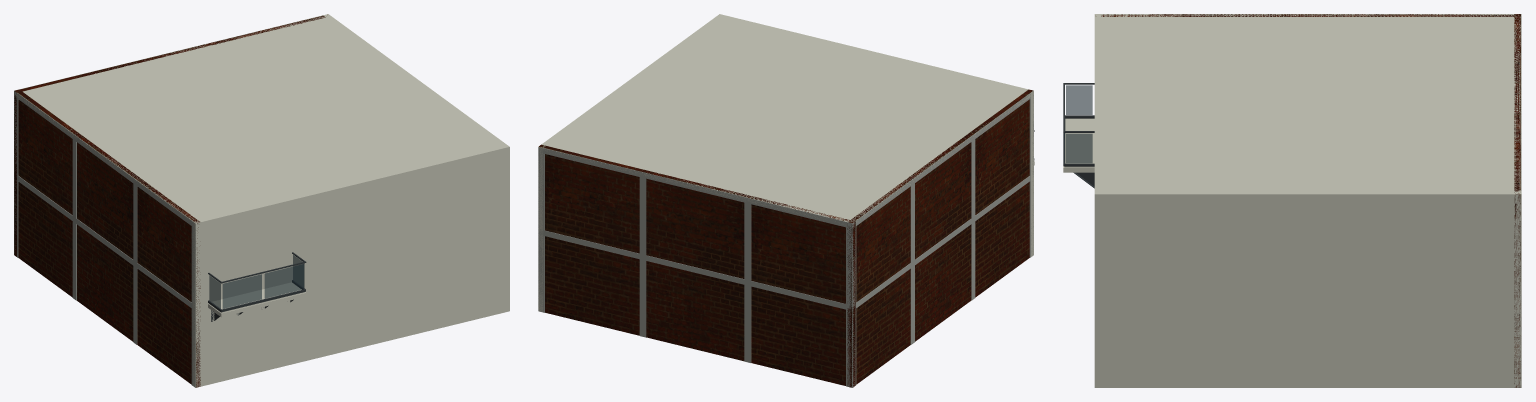
File: building.glb
3 views of the same model, side by side, from view 1: azimuth 30°, elevation 25°; view 2: azimuth 150°, elevation 25°; view 3: azimuth 270°, elevation 25° (orthographic). The views are drawn at different scales.
Parts seen in each view (by area): view 1: roof/house:0/roof_slab#0001, house:0/edge0/z0/house:0/edge0/z0/wall_0_0, house:0/edge3/z0/house:0/edge3/z0/wall_0_0, house:0/edge2/z0/house:0/edge2/z0/wall_0_0, house:0/edge1/z0/house:0/edge1/z0/wall_0_0, house:0/edge3/z0/house:0/edge3/z0/beam_0_0, house:0/edge3/z0/house:0/edge3/z0/beam_1_0, balcony/sample/balcony_glass#0002, balcony/sample/balcony_glass#0003, balcony/sample/balcony_platform#0001, balcony/sample/balcony_fascia#0001; view 2: roof/house:0/roof_slab#0001, house:0/edge2/z0/house:0/edge2/z0/wall_0_0, house:0/edge3/z0/house:0/edge3/z0/wall_0_0, house:0/edge2/z0/house:0/edge2/z0/beam_0_0, house:0/edge2/z0/house:0/edge2/z0/beam_1_0, house:0/edge1/z0/house:0/edge1/z0/wall_0_0, house:0/edge0/z0/house:0/edge0/z0/wall_0_0, house:0/edge3/z0/house:0/edge3/z0/beam_0_0, house:0/edge3/z0/house:0/edge3/z0/beam_1_0, house:0/edge2/z0/house:0/edge2/z0/column_2_1, house:0/edge2/z0/house:0/edge2/z0/column_2_0, house:0/edge2/z0/house:0/edge2/z0/column_3_0 (+5 smaller); view 3: house:0/edge1/z0/house:0/edge1/z0/wall_0_0, roof/house:0/roof_slab#0001, house:0/edge0/z0/house:0/edge0/z0/wall_0_0, house:0/edge2/z0/house:0/edge2/z0/wall_0_0, balcony/sample/balcony_platform#0001, house:0/edge3/z0/house:0/edge3/z0/wall_0_0, balcony/sample/balcony_glass#0004, balcony/sample/balcony_glass#0001.
Part boxes in pixels (<box>): roof/house:0/roof_slab#0001: <box>14,16,509,224</box>; house:0/edge0/z0/house:0/edge0/z0/wall_0_0: <box>192,144,509,387</box>; house:0/edge3/z0/house:0/edge3/z0/wall_0_0: <box>15,89,200,387</box>; house:0/edge2/z0/house:0/edge2/z0/wall_0_0: <box>14,14,327,256</box>; house:0/edge1/z0/house:0/edge1/z0/wall_0_0: <box>323,14,509,312</box>; house:0/edge3/z0/house:0/edge3/z0/beam_0_0: <box>14,175,195,310</box>; house:0/edge3/z0/house:0/edge3/z0/beam_1_0: <box>14,91,195,227</box>; balcony/sample/balcony_glass#0002: <box>222,274,261,308</box>; balcony/sample/balcony_glass#0003: <box>264,264,303,298</box>; balcony/sample/balcony_platform#0001: <box>209,282,305,312</box>; balcony/sample/balcony_fascia#0001: <box>208,292,306,317</box>; roof/house:0/roof_slab#0001: <box>538,14,1033,226</box>; house:0/edge2/z0/house:0/edge2/z0/wall_0_0: <box>539,144,855,387</box>; house:0/edge3/z0/house:0/edge3/z0/wall_0_0: <box>847,89,1033,387</box>; house:0/edge2/z0/house:0/edge2/z0/beam_0_0: <box>538,229,852,310</box>; house:0/edge2/z0/house:0/edge2/z0/beam_1_0: <box>538,147,852,228</box>; house:0/edge1/z0/house:0/edge1/z0/wall_0_0: <box>538,14,723,312</box>; house:0/edge0/z0/house:0/edge0/z0/wall_0_0: <box>718,14,1033,256</box>; house:0/edge3/z0/house:0/edge3/z0/beam_0_0: <box>852,173,1033,310</box>; house:0/edge3/z0/house:0/edge3/z0/beam_1_0: <box>852,91,1033,228</box>; house:0/edge2/z0/house:0/edge2/z0/column_2_1: <box>639,259,646,337</box>; house:0/edge2/z0/house:0/edge2/z0/column_2_0: <box>639,177,646,255</box>; house:0/edge2/z0/house:0/edge2/z0/column_3_0: <box>744,202,751,280</box>; house:0/edge1/z0/house:0/edge1/z0/wall_0_0: <box>1094,191,1521,387</box>; roof/house:0/roof_slab#0001: <box>1094,14,1521,198</box>; house:0/edge0/z0/house:0/edge0/z0/wall_0_0: <box>1094,14,1101,387</box>; house:0/edge2/z0/house:0/edge2/z0/wall_0_0: <box>1514,14,1520,387</box>; balcony/sample/balcony_platform#0001: <box>1064,118,1094,167</box>; house:0/edge3/z0/house:0/edge3/z0/wall_0_0: <box>1101,14,1514,16</box>; balcony/sample/balcony_glass#0004: <box>1066,133,1092,163</box>; balcony/sample/balcony_glass#0001: <box>1066,85,1092,114</box>.
Size of the model in its own units: 12 by 6 by 12.88.
5 materials, 1 textured.
